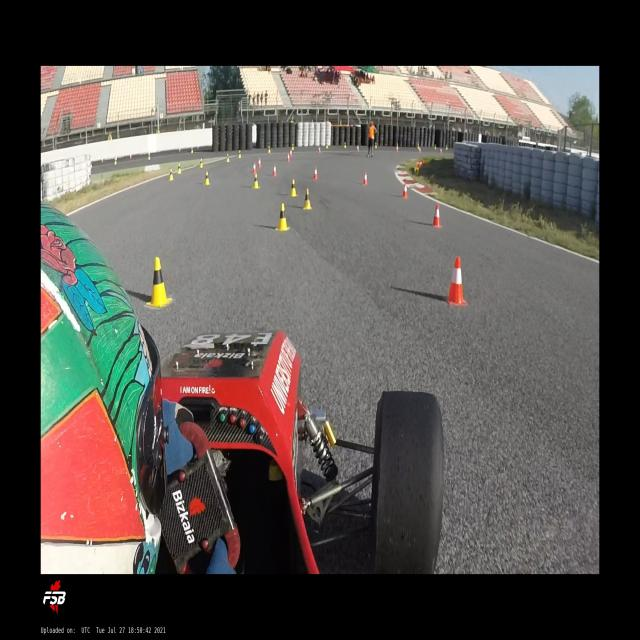orange_cone: (446, 257, 466, 306), (432, 204, 441, 228), (401, 182, 408, 198), (362, 172, 368, 186), (313, 166, 318, 180), (272, 164, 277, 177), (252, 162, 257, 174), (257, 158, 261, 168), (286, 152, 290, 162), (357, 144, 360, 152), (420, 160, 424, 166), (318, 146, 321, 153), (290, 147, 292, 157), (396, 146, 399, 152), (416, 162, 419, 167), (419, 146, 421, 153), (101, 156, 103, 162), (130, 152, 132, 158), (440, 148, 442, 154)
yellow_cone: (146, 256, 172, 308), (275, 203, 289, 231), (302, 188, 313, 210), (289, 179, 298, 197), (203, 172, 211, 186), (252, 173, 259, 189), (168, 168, 174, 182), (177, 163, 181, 174), (199, 158, 203, 168), (226, 153, 230, 162), (414, 167, 419, 174), (238, 149, 241, 159), (191, 146, 194, 153), (344, 142, 347, 148), (326, 142, 329, 148), (268, 145, 270, 153), (148, 152, 150, 160), (114, 159, 117, 164), (417, 142, 419, 149), (292, 144, 294, 150), (375, 142, 377, 148), (434, 144, 436, 150), (446, 145, 448, 150)
